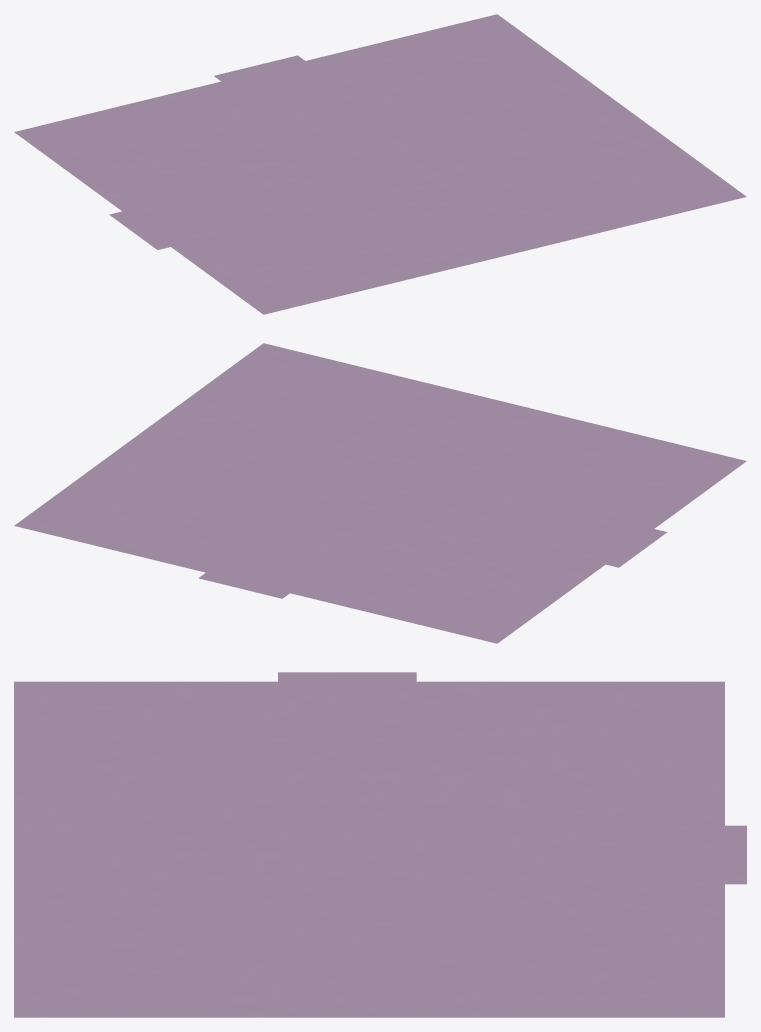
Rendered from dining-room_0_0.floor.glb.
3 renders of one model, top to bottom at view 1: azimuth 30°, elevation 25°; view 2: azimuth 150°, elevation 25°; view 3: azimuth 270°, elevation 25°, orthographic. The views are drawn at different scales.
Parts seen in each view (by area): view 1: dining-room_0/0.floor.001; view 2: dining-room_0/0.floor.001; view 3: dining-room_0/0.floor.001.
Part boxes in pixels (x1,y1,x2,y2): dining-room_0/0.floor.001: (14, 14, 746, 314); dining-room_0/0.floor.001: (14, 343, 746, 643); dining-room_0/0.floor.001: (14, 672, 746, 1017).
Size of the model in its own units: 4.87 by 0 by 4.37.
1 material, 1 textured.
